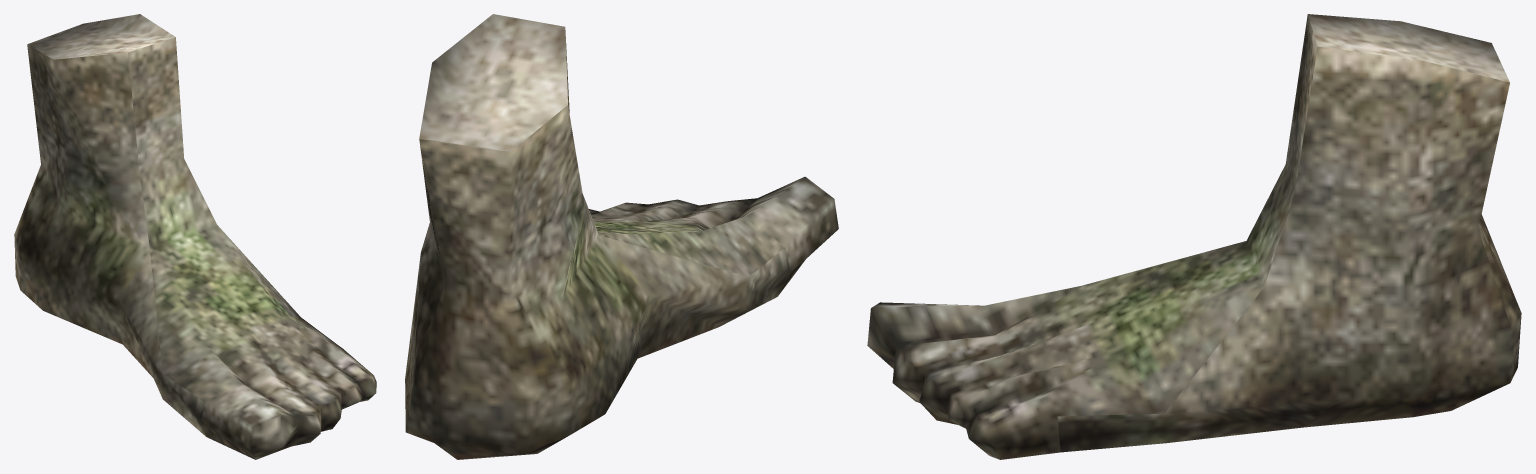
File: general_obj_stoneimage02.glb
3 views of the same model, side by side, from view 1: azimuth 30°, elevation 25°; view 2: azimuth 150°, elevation 25°; view 3: azimuth 270°, elevation 25° (orthographic). The views are drawn at different scales.
Parts seen in each view (by area): view 1: Sphere01; view 2: Sphere01; view 3: Sphere01.
Boxes of the visible parts, x1,y1,x2,y2 form: Sphere01: (14,14,376,459); Sphere01: (405,14,838,459); Sphere01: (867,14,1521,459).
Size of the model in its own units: 1.75 by 2.62 by 4.17.
1 material, 1 textured.
